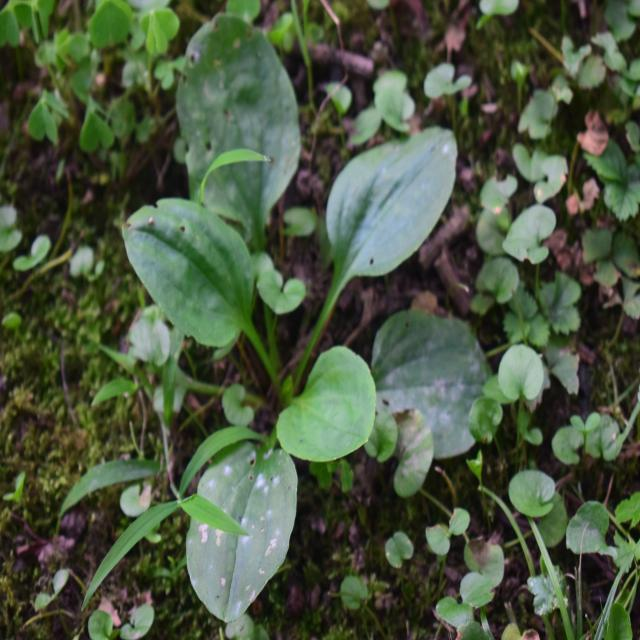plantain: (127, 28, 445, 565)
